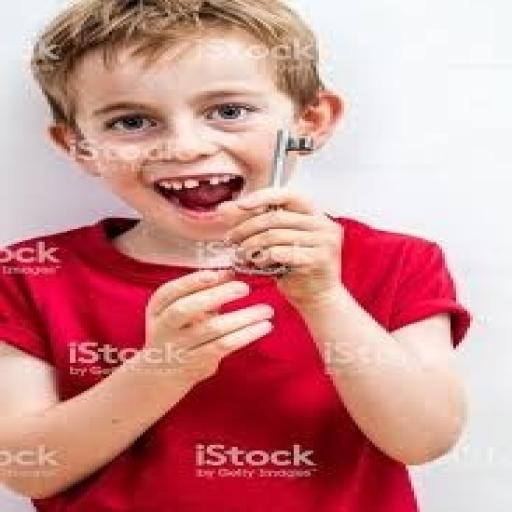laughing: (0, 0, 476, 510)
